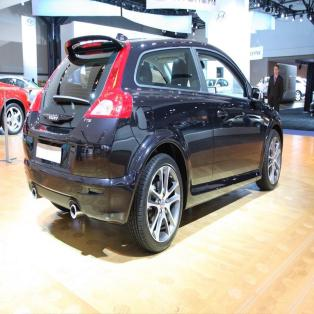Auto: (22, 35, 283, 254)
